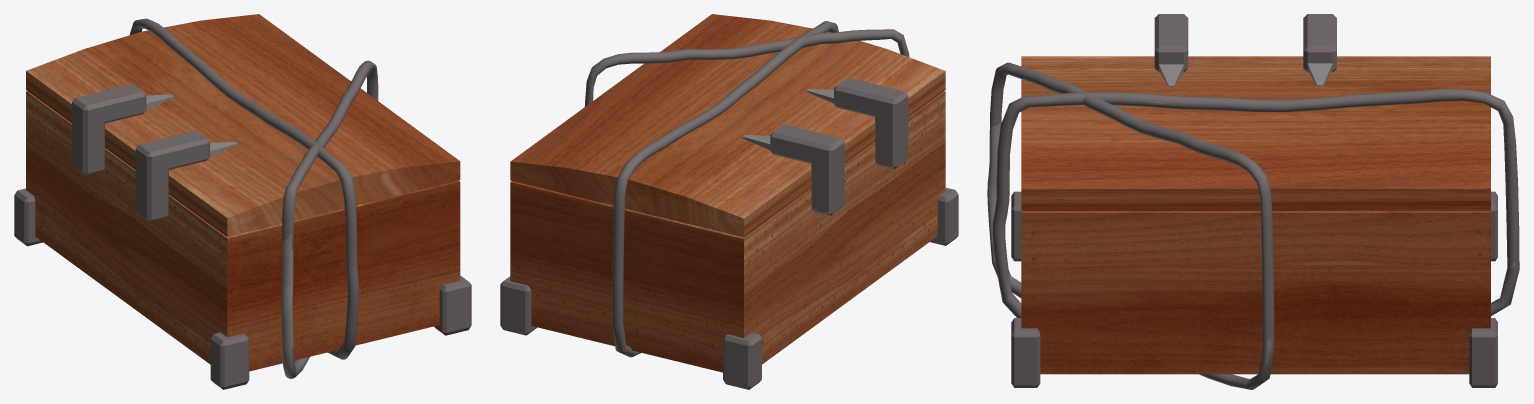
The model's file is Chest_02.fbx.
3 views of the same model, side by side, from view 1: azimuth 30°, elevation 25°; view 2: azimuth 150°, elevation 25°; view 3: azimuth 270°, elevation 25° (orthographic). The views are drawn at different scales.
Parts seen in each view (by area): view 1: pCube29; view 2: pCube29; view 3: pCube29.
Part boxes in pixels (box(x1,y1,x2,y2)): pCube29: box(14, 14, 471, 389); pCube29: box(500, 14, 958, 389); pCube29: box(987, 14, 1519, 389).
Bounding box in the file's own units: 3.56 × 2.48 × 5.06.
Materials: 3 (3 with a texture image).
